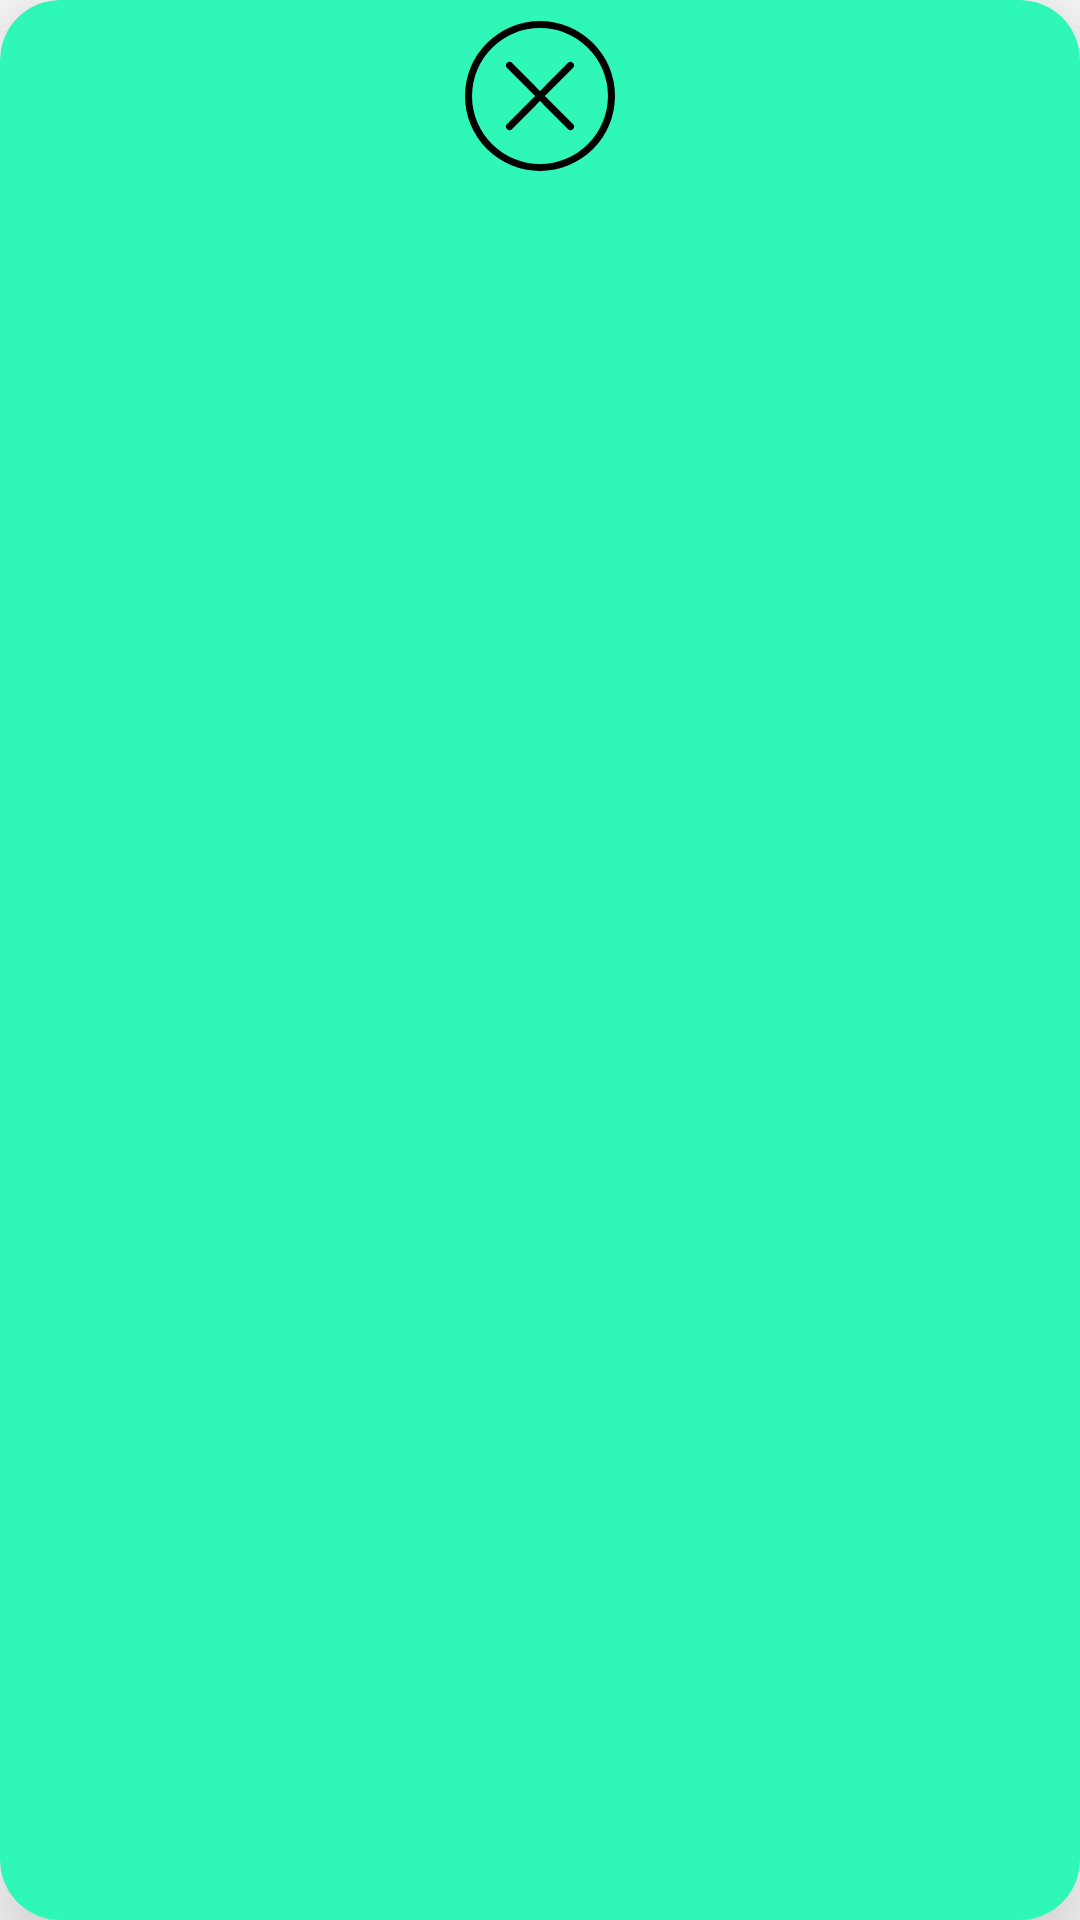

Icon click points for this 1080*1920 phone screenshot, format [x,y]:
Close: [540,96]
